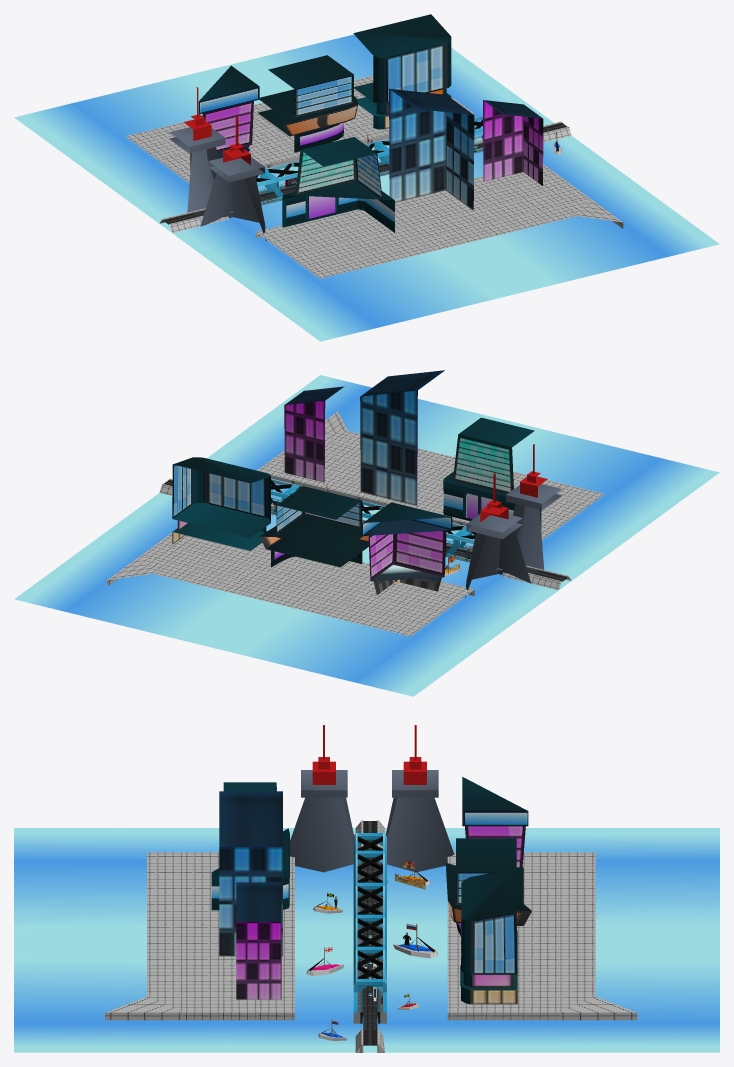
File: subwaysurferstest87.glb
3 views of the same model, one above another, from view 1: azimuth 30°, elevation 25°; view 2: azimuth 150°, elevation 25°; view 3: azimuth 270°, elevation 25° (orthographic). The views are drawn at different scales.
Visible parts, largest first — view 1: Water, tile.024, building.003, building.008, building, building.004, tile.001, building.007, lighttower.002, building.005, lighttower.001; view 2: Water, tile.001, building, tile.024, building.003, building.004, building.005, building.008, lighttower.001, building.007, lighttower.002; view 3: Water, tile.024, tile.001, building, building.003, lighttower.002, lighttower.001, building.007, building.004, building.005, building.008, Overpass (+5 smaller).
Part boxes in pixels (box(x1,y1,x2,y2)): Water: box(14, 34, 719, 341); tile.024: box(255, 164, 623, 278); building.003: box(389, 88, 474, 210); building.008: box(282, 137, 394, 232); building: box(353, 14, 451, 129); building.004: box(257, 55, 358, 152); tile.001: box(125, 76, 474, 183); building.007: box(483, 100, 543, 185); lighttower.002: box(200, 116, 266, 240); building.005: box(198, 65, 259, 158); lighttower.001: box(169, 87, 225, 212); Water: box(14, 375, 719, 696); tile.001: box(107, 532, 474, 636); building: box(172, 457, 270, 550); tile.024: box(257, 411, 604, 539); building.003: box(360, 370, 444, 505); building.004: box(259, 486, 369, 567); building.005: box(362, 502, 452, 594); building.008: box(443, 417, 534, 520); lighttower.001: box(465, 473, 530, 597); building.007: box(284, 386, 344, 482); lighttower.002: box(506, 444, 561, 569); Water: box(14, 828, 719, 1052); tile.024: box(105, 852, 294, 1020); tile.001: box(447, 852, 637, 1020); building: box(460, 868, 517, 1004); building.003: box(219, 791, 282, 956); lighttower.002: box(290, 725, 353, 872); lighttower.001: box(386, 725, 454, 872); building.007: box(236, 882, 281, 999); building.004: box(445, 838, 531, 935); building.005: box(462, 777, 528, 867); building.008: box(211, 782, 289, 910); Overpass: box(353, 950, 386, 1012).
Bounding box in the file's own units: 562 × 169 × 744.
5 materials, 5 textured.
